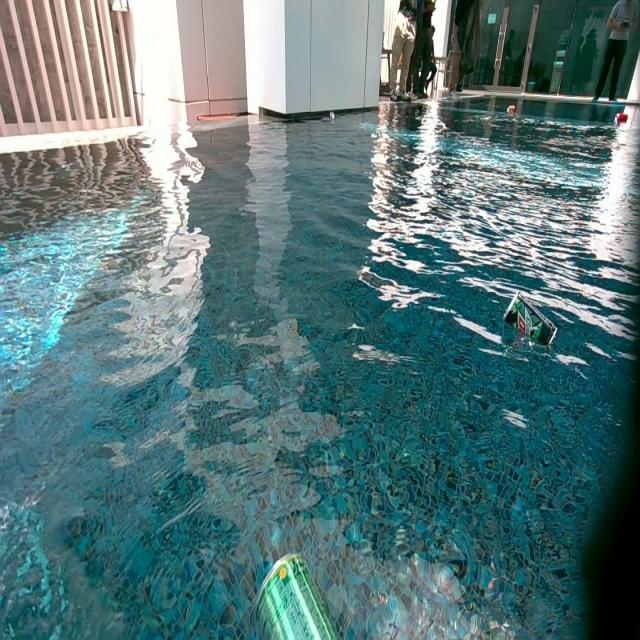Cans: (249, 550, 349, 637), (501, 291, 559, 350), (617, 111, 629, 123), (506, 105, 514, 115), (329, 112, 334, 121)
